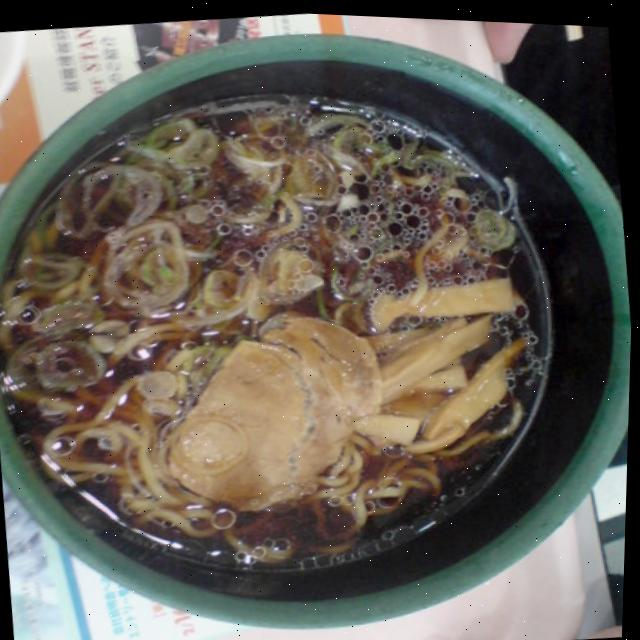面条主食: (0, 64, 584, 578)
